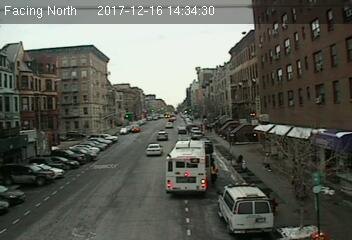car: (146, 143, 162, 156), (156, 132, 168, 140), (177, 126, 186, 134)
police: (215, 180, 277, 236)
